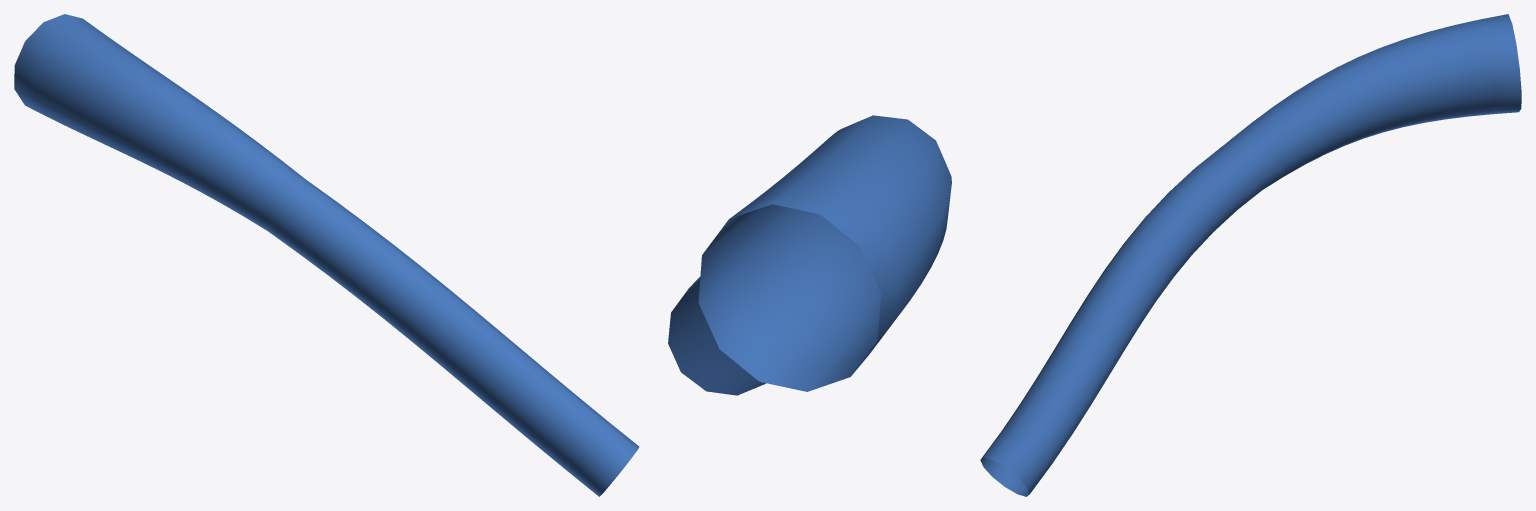
The picture shows the model from 3 angles, left to right: view 1: azimuth 30°, elevation 25°; view 2: azimuth 150°, elevation 25°; view 3: azimuth 270°, elevation 25°; orthographic projection. The views are drawn at different scales.
Visible parts, largest first — view 1: 右侧下颌后静脉后支; view 2: 右侧下颌后静脉后支; view 3: 右侧下颌后静脉后支.
Part boxes in pixels (left/top/right/bottom): 右侧下颌后静脉后支: left=14, top=14, right=639, bottom=496; 右侧下颌后静脉后支: left=668, top=115, right=951, bottom=395; 右侧下颌后静脉后支: left=980, top=14, right=1521, bottom=496.
Size of the model in its own units: 0.0155 by 0.0145 by 0.0208.
